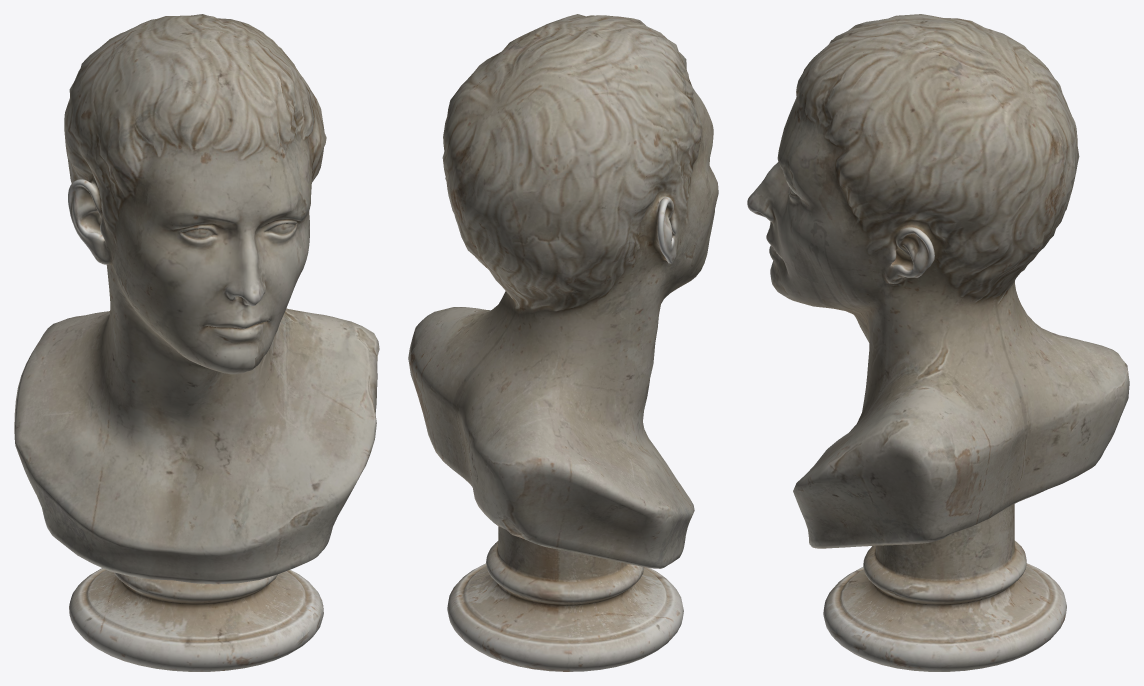
File: marble_bust_01.glb
The picture shows the model from 3 angles, left to right: view 1: azimuth 30°, elevation 25°; view 2: azimuth 150°, elevation 25°; view 3: azimuth 270°, elevation 25°; orthographic projection. The views are drawn at different scales.
Parts seen in each view (by area): view 1: marble_bust_01; view 2: marble_bust_01; view 3: marble_bust_01.
Part boxes in pixels (bbox=[...]): marble_bust_01: bbox=[14, 14, 379, 671]; marble_bust_01: bbox=[408, 14, 718, 671]; marble_bust_01: bbox=[747, 14, 1129, 671].
Size of what is drawn, in the model's own units: 0.2717 by 0.5149 by 0.2997.
1 material, 1 textured.
